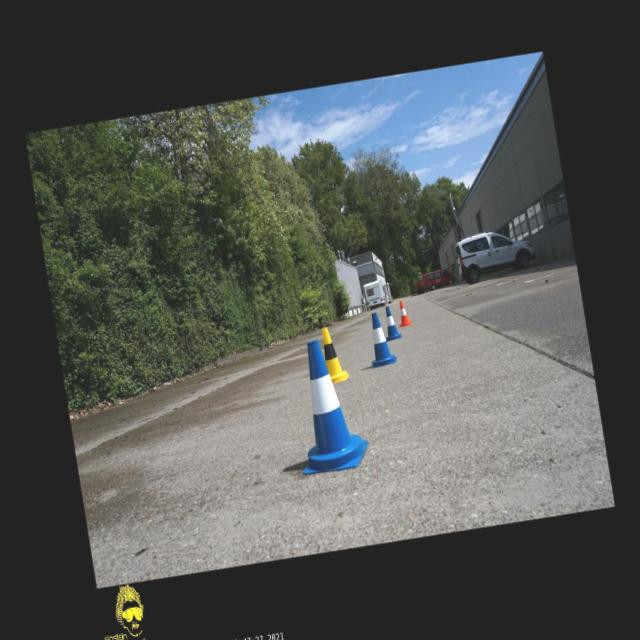blue_cone: (282, 334, 372, 476), (363, 311, 398, 368), (381, 304, 403, 342)
orange_cone: (397, 300, 412, 327)
yellow_cone: (320, 324, 351, 384)
